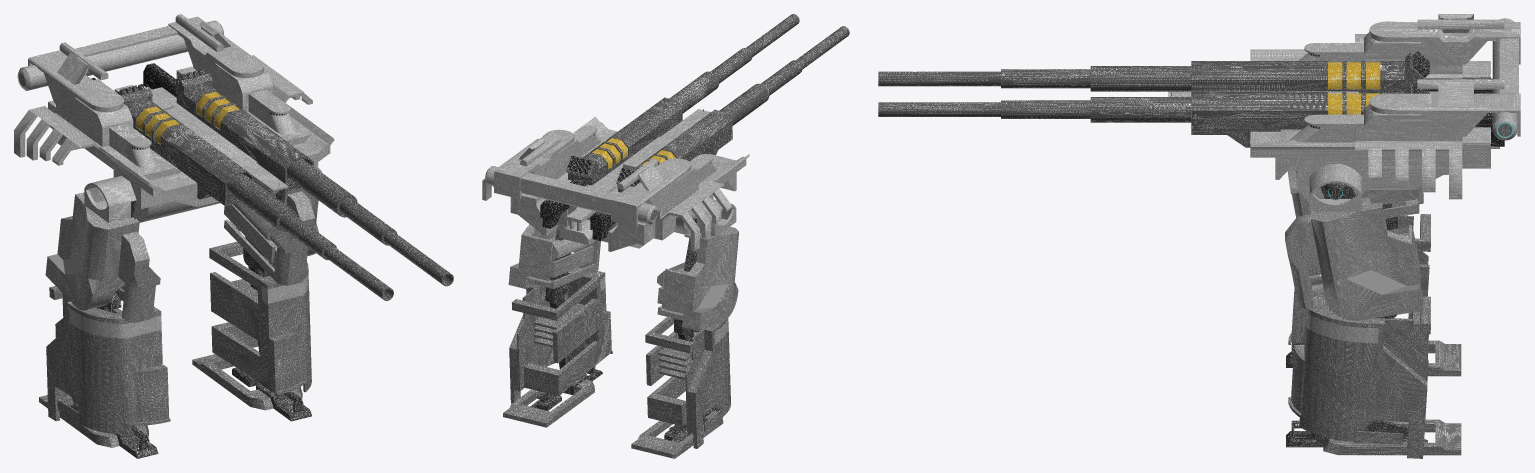
File: Wolfen_Ominartus.fbx
3 renders of one model, left to right at view 1: azimuth 30°, elevation 25°; view 2: azimuth 150°, elevation 25°; view 3: azimuth 270°, elevation 25°, orthographic. The views are drawn at different scales.
Parts seen in each view (by area): view 1: 09Skp Mesh[Front Side], 08Skp Mesh[Front Side], 07Skp Mesh[Front Side], 06Skp Mesh[Front Side], 05Skp Mesh[Front Side], 09Skp Mesh[Back Side], 08Skp Mesh[Back Side], 04Skp Mesh[Front Side], 07Skp Mesh[Back Side], 06Skp Mesh[Back Side], Skp Mesh[Front Side], 05Skp Mesh[Back Side] (+5 smaller); view 2: 09Skp Mesh[Front Side], 08Skp Mesh[Front Side], 06Skp Mesh[Front Side], 07Skp Mesh[Front Side], 05Skp Mesh[Front Side], 09Skp Mesh[Back Side], 08Skp Mesh[Back Side], 04Skp Mesh[Front Side], 06Skp Mesh[Back Side], Skp Mesh[Front Side], 07Skp Mesh[Back Side], 02Skp Mesh[Front Side] (+8 smaller); view 3: 08Skp Mesh[Front Side], 09Skp Mesh[Front Side], 06Skp Mesh[Front Side], 04Skp Mesh[Front Side], 08Skp Mesh[Back Side], 09Skp Mesh[Back Side], 06Skp Mesh[Back Side], 04Skp Mesh[Back Side], Skp Mesh[Front Side], 07Skp Mesh[Front Side], 05Skp Mesh[Front Side], 02Skp Mesh[Front Side] (+1 smaller).
Boxes of the visible parts, <box> form: 09Skp Mesh[Front Side]: <box>14,39,393,300</box>; 08Skp Mesh[Front Side]: <box>115,14,453,286</box>; 07Skp Mesh[Front Side]: <box>46,286,170,434</box>; 06Skp Mesh[Front Side]: <box>209,241,311,395</box>; 05Skp Mesh[Front Side]: <box>45,192,160,322</box>; 09Skp Mesh[Back Side]: <box>14,41,393,299</box>; 08Skp Mesh[Back Side]: <box>116,15,451,285</box>; 04Skp Mesh[Front Side]: <box>224,167,321,285</box>; 07Skp Mesh[Back Side]: <box>46,286,168,434</box>; 06Skp Mesh[Back Side]: <box>209,242,311,393</box>; Skp Mesh[Front Side]: <box>192,266,311,421</box>; 05Skp Mesh[Back Side]: <box>46,192,160,321</box>; 09Skp Mesh[Front Side]: <box>566,26,849,251</box>; 08Skp Mesh[Front Side]: <box>482,14,799,241</box>; 06Skp Mesh[Front Side]: <box>509,267,612,403</box>; 07Skp Mesh[Front Side]: <box>645,317,730,448</box>; 05Skp Mesh[Front Side]: <box>657,226,738,331</box>; 09Skp Mesh[Back Side]: <box>566,27,847,250</box>; 08Skp Mesh[Back Side]: <box>483,14,798,240</box>; 04Skp Mesh[Front Side]: <box>508,224,600,288</box>; 06Skp Mesh[Back Side]: <box>509,268,611,402</box>; Skp Mesh[Front Side]: <box>503,296,602,427</box>; 07Skp Mesh[Back Side]: <box>645,317,730,447</box>; 02Skp Mesh[Front Side]: <box>631,329,723,458</box>; 08Skp Mesh[Front Side]: <box>878,67,1520,211</box>; 09Skp Mesh[Front Side]: <box>878,14,1520,95</box>; 06Skp Mesh[Front Side]: <box>1288,295,1430,458</box>; 04Skp Mesh[Front Side]: <box>1285,197,1423,320</box>; 08Skp Mesh[Back Side]: <box>878,67,1519,211</box>; 09Skp Mesh[Back Side]: <box>878,14,1520,95</box>; 06Skp Mesh[Back Side]: <box>1288,295,1430,458</box>; 04Skp Mesh[Back Side]: <box>1285,198,1423,320</box>; Skp Mesh[Front Side]: <box>1286,317,1461,455</box>; 07Skp Mesh[Front Side]: <box>1288,214,1430,344</box>; 05Skp Mesh[Front Side]: <box>1287,171,1423,218</box>; 02Skp Mesh[Front Side]: <box>1286,340,1461,376</box>.
Bounding box in the file's own units: 13667 × 17244 × 28334.
